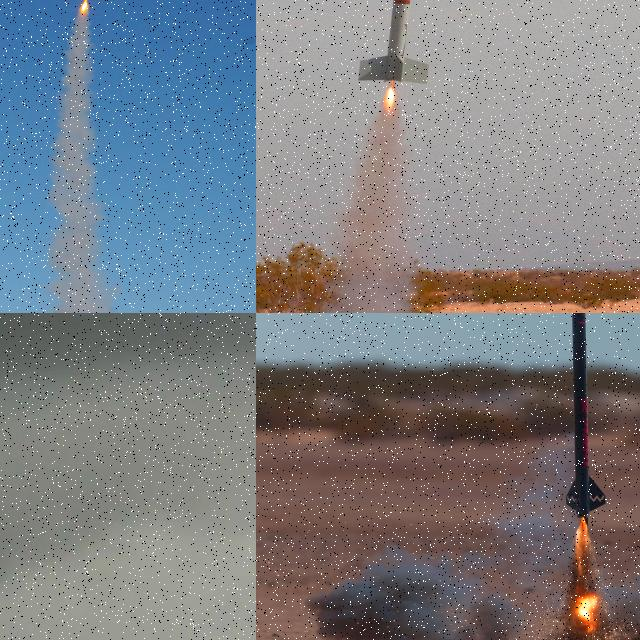Rocket: (563, 313, 607, 521), (355, 0, 431, 84)
